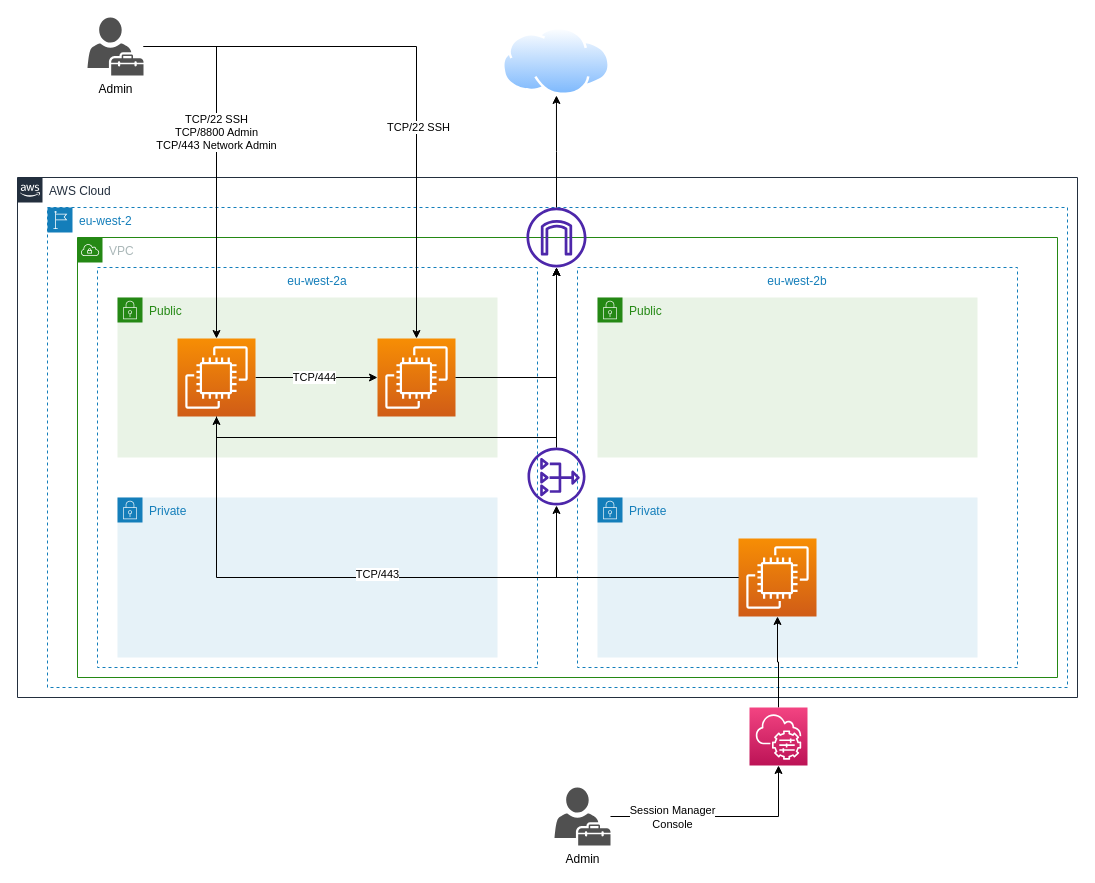
Some shapes in this 1095 by 883 pixel diagram are drawn without their labels. Each missing label, with the centre of its shape:
Compliance: the point at 777,577
Messaging: the point at 216,377
Voice & Video: the point at 416,377
